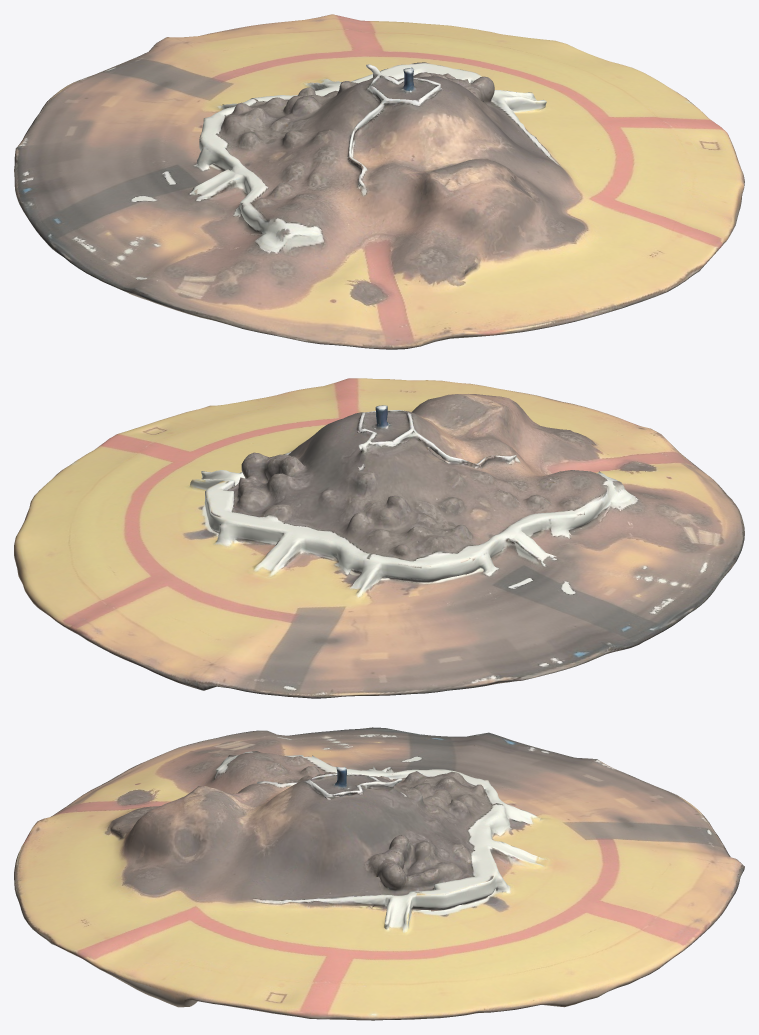
File: mount-arafat.glb
3 views of the same model, one above another, from view 1: azimuth 30°, elevation 25°; view 2: azimuth 150°, elevation 25°; view 3: azimuth 270°, elevation 25° (orthographic). The views are drawn at different scales.
Parts seen in each view (by area): view 1: tripo_node_c16631eb-cea3-4548-baf0-56bc6e8fe022; view 2: tripo_node_c16631eb-cea3-4548-baf0-56bc6e8fe022; view 3: tripo_node_c16631eb-cea3-4548-baf0-56bc6e8fe022.
Part boxes in pixels (x1,y1,x2,y2): tripo_node_c16631eb-cea3-4548-baf0-56bc6e8fe022: (14, 14, 744, 349); tripo_node_c16631eb-cea3-4548-baf0-56bc6e8fe022: (14, 378, 744, 698); tripo_node_c16631eb-cea3-4548-baf0-56bc6e8fe022: (14, 727, 744, 1020).
Bounding box in the file's own units: 0.911 × 0.1934 × 0.9747.
Materials: 1 (1 with a texture image).
